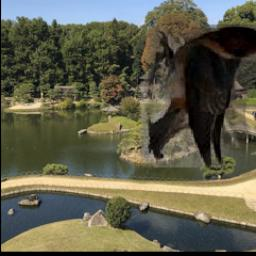Swallow: (141, 25, 256, 167)
